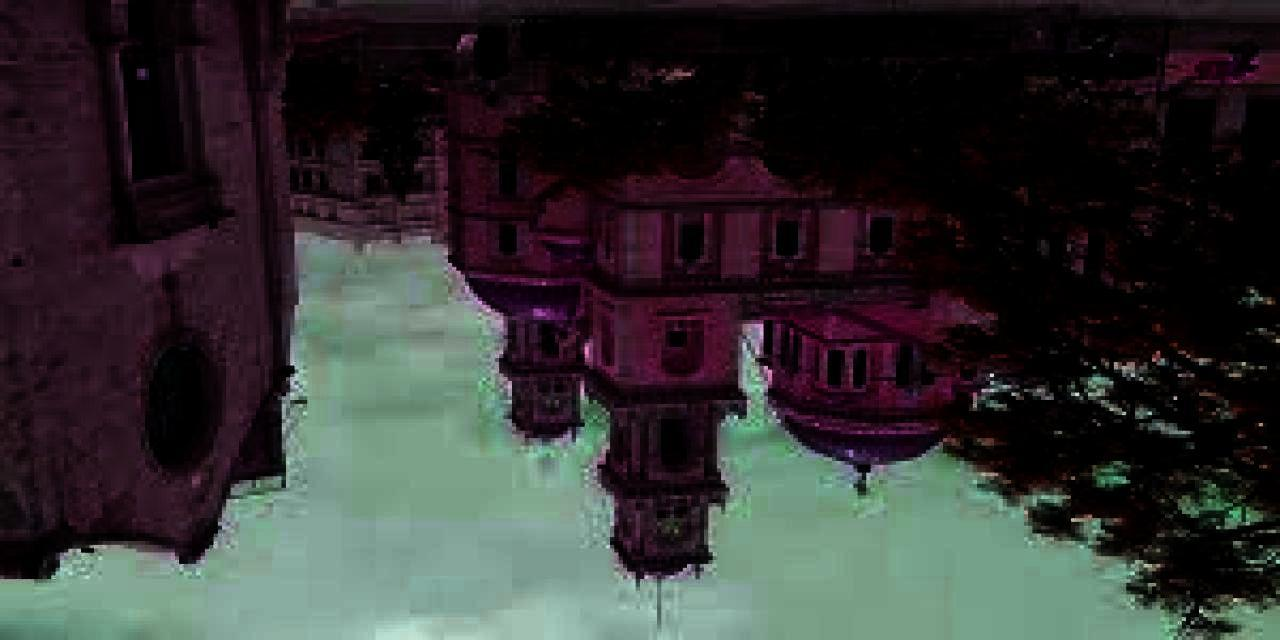Agios Minas: (445, 74, 1087, 636)
